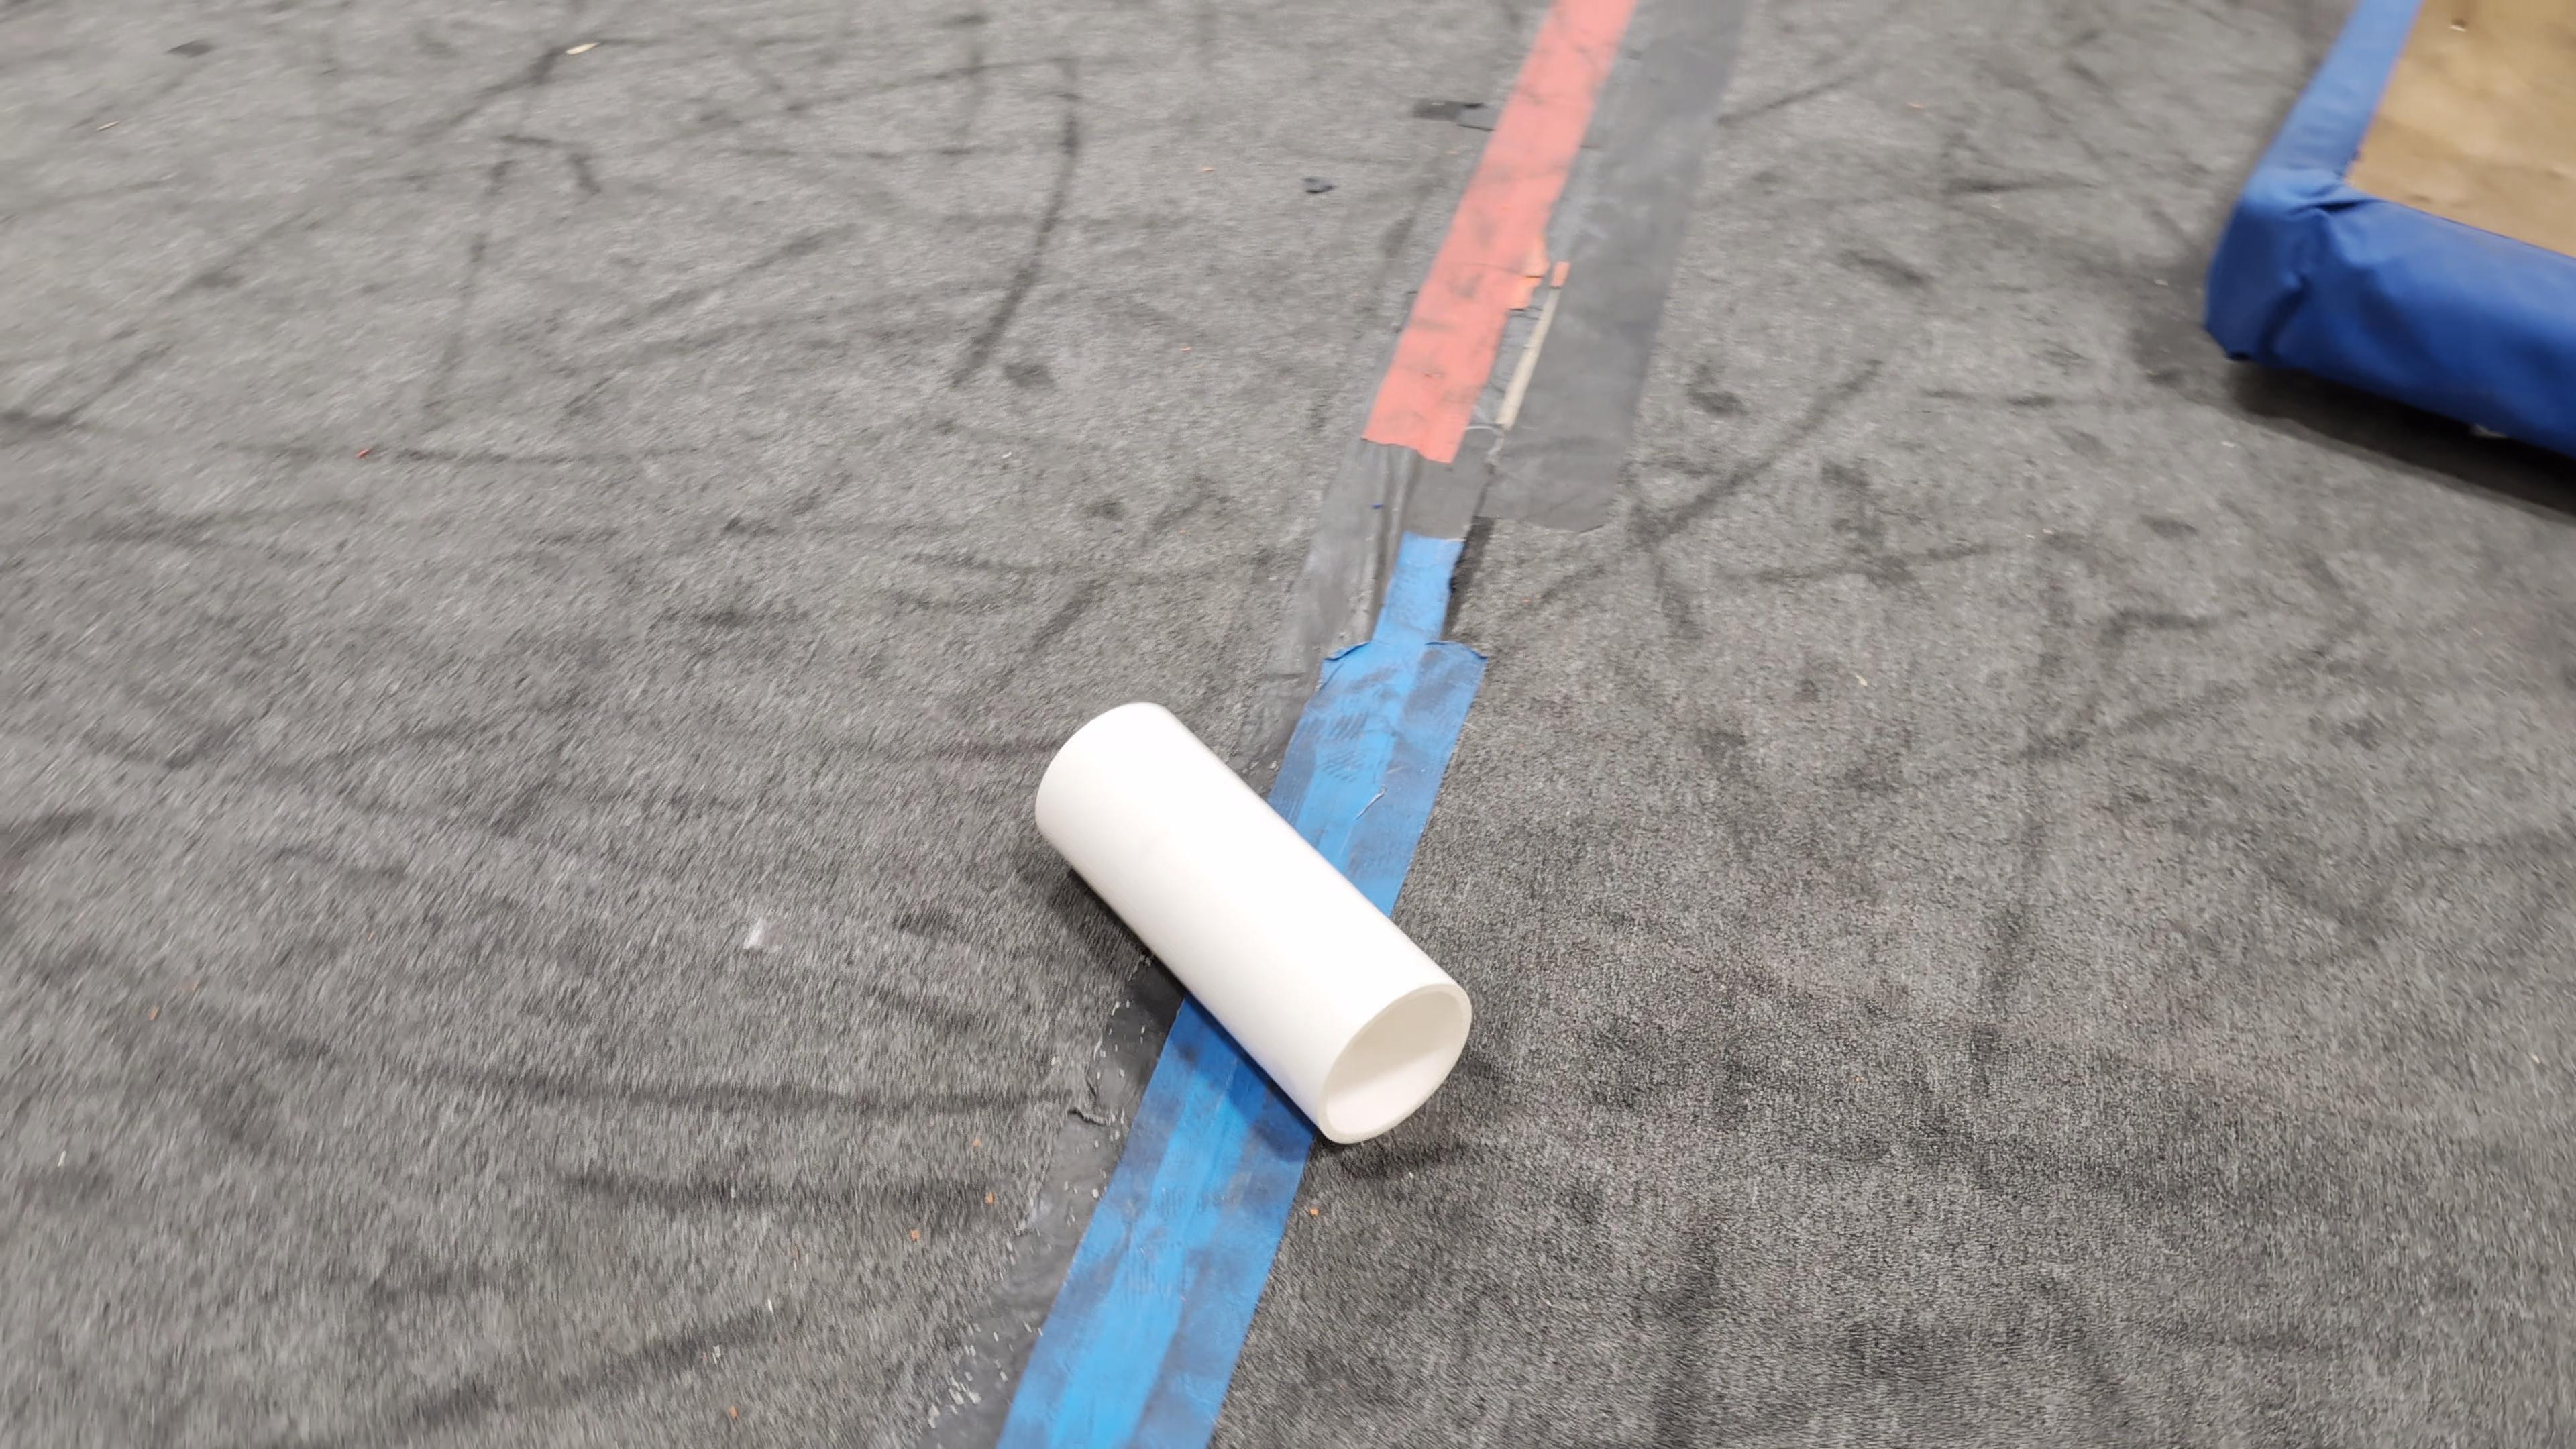coral: (1028, 694, 1477, 1145)
